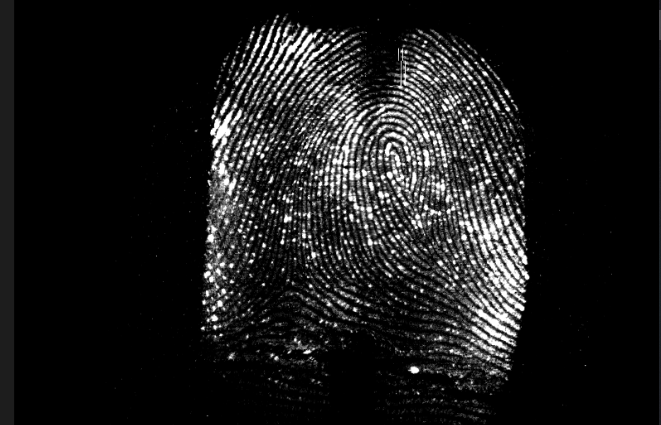nucelo: (380, 131, 413, 180)
verticilo: (269, 272, 306, 300), (399, 182, 417, 205)
